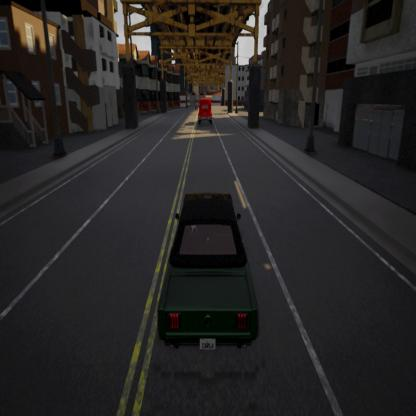Cars: (157, 192, 260, 352), (197, 97, 213, 127)
